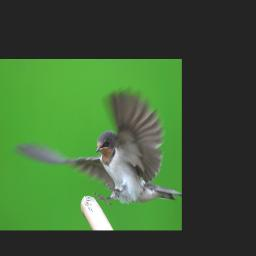Swallow: (16, 87, 179, 206)
